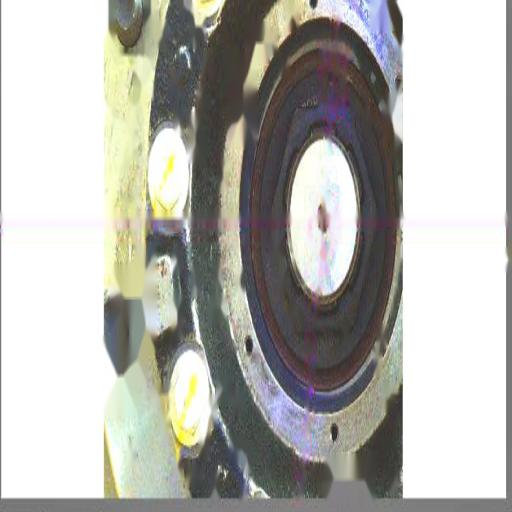center: (314, 206, 332, 246)
notch: (323, 64, 341, 95)
